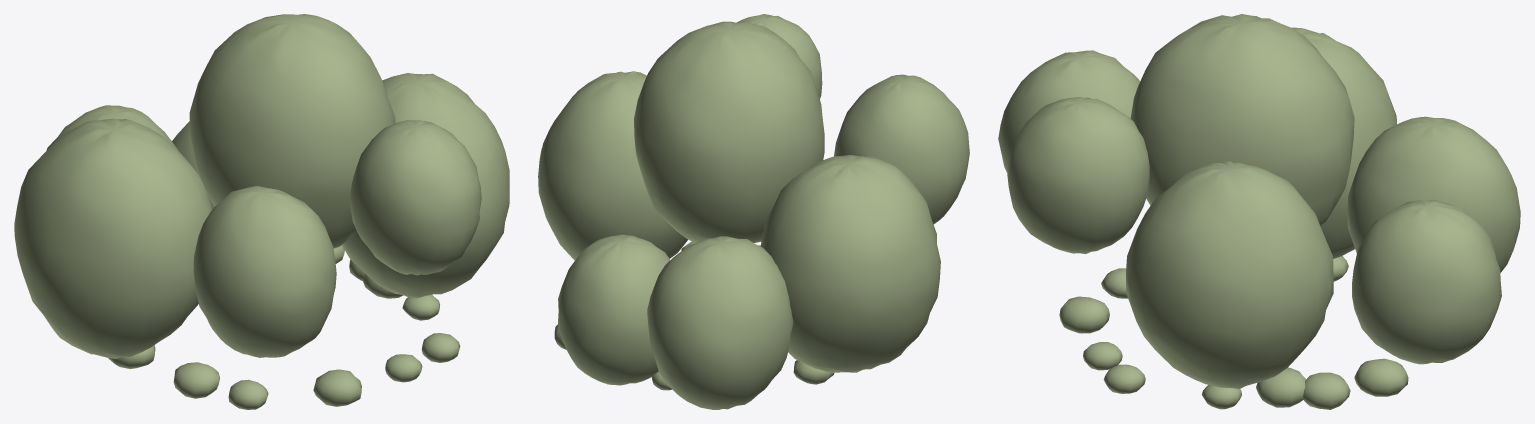
Rendered from 14-bush.glb.
3 views of the same model, side by side, from view 1: azimuth 30°, elevation 25°; view 2: azimuth 150°, elevation 25°; view 3: azimuth 270°, elevation 25° (orthographic). The views are drawn at different scales.
Parts seen in each view (by area): view 1: Puff1, Puff0, Puff5, Puff6, Puff2, Tuft7, Tuft4, Puff3, Tuft12, Tuft10, Tuft2, Tuft5 (+2 smaller); view 2: Puff0, Puff1, Puff3, Puff2, Puff4, Puff5, Puff6, Tuft1; view 3: Puff2, Puff0, Puff4, Puff6, Puff3, Puff5, Puff1, Tuft8, Tuft7, Tuft13, Tuft0, Tuft10 (+3 smaller).
Boxes of the visible parts, <box> form: Puff1: <box>14,118,212,358</box>; Puff0: <box>189,14,395,248</box>; Puff5: <box>193,185,336,357</box>; Puff6: <box>350,120,481,275</box>; Puff2: <box>342,73,509,298</box>; Tuft7: <box>313,369,361,406</box>; Tuft4: <box>173,362,219,398</box>; Puff3: <box>46,105,178,150</box>; Tuft12: <box>228,379,268,409</box>; Tuft10: <box>421,333,460,362</box>; Tuft2: <box>385,354,422,382</box>; Tuft5: <box>402,294,439,320</box>; Puff0: <box>634,21,824,242</box>; Puff1: <box>760,155,940,372</box>; Puff3: <box>647,236,793,409</box>; Puff2: <box>538,71,687,260</box>; Puff4: <box>558,234,670,385</box>; Puff5: <box>834,74,969,224</box>; Puff6: <box>737,14,822,98</box>; Tuft1: <box>793,360,834,384</box>; Puff2: <box>1126,161,1333,388</box>; Puff0: <box>1130,14,1354,226</box>; Puff4: <box>1352,200,1501,364</box>; Puff6: <box>1007,97,1149,253</box>; Puff3: <box>1347,116,1520,272</box>; Puff5: <box>998,50,1139,173</box>; Puff1: <box>1291,27,1396,258</box>; Tuft8: <box>1354,358,1408,396</box>; Tuft7: <box>1059,296,1109,333</box>; Tuft13: <box>1256,367,1306,407</box>; Tuft0: <box>1303,372,1350,409</box>; Tuft10: <box>1103,364,1145,393</box>.
Bounding box in the file's own units: 1.44 × 1 × 1.46.
